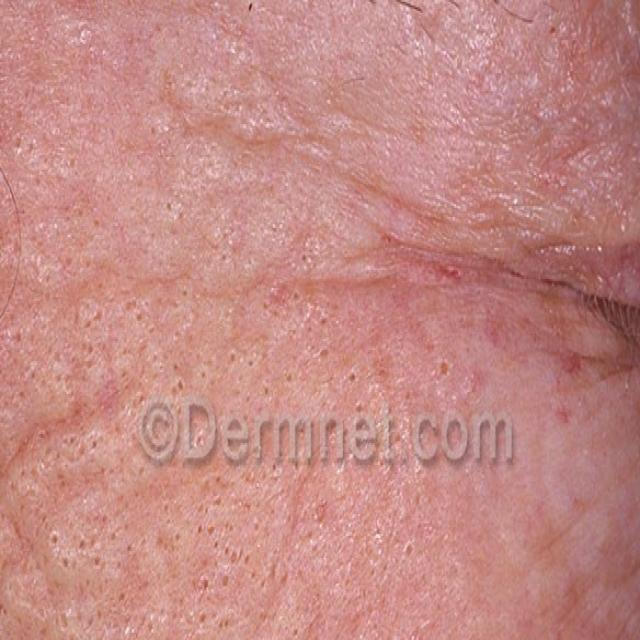Acne: (0, 198, 575, 640)
